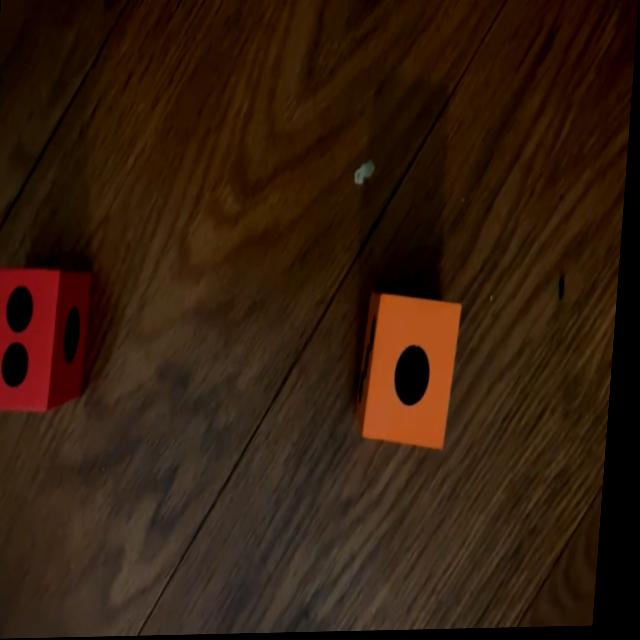cube: (0, 268, 98, 414)
